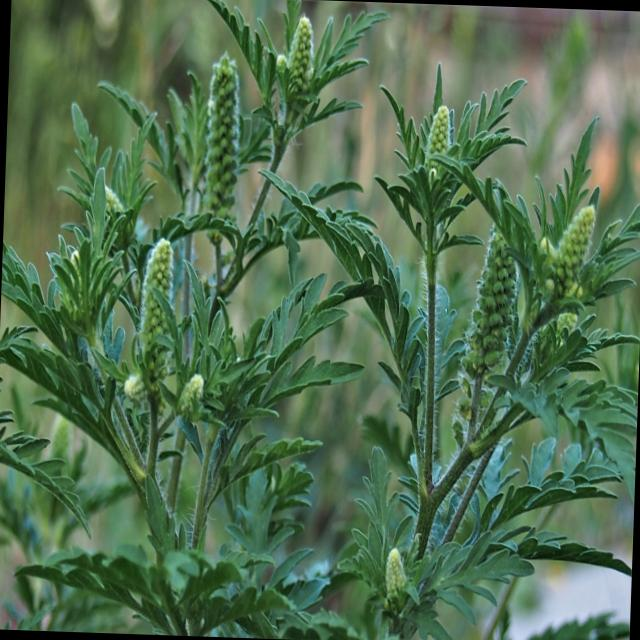ambrosia: (458, 145, 640, 499), (83, 189, 229, 502), (365, 473, 510, 640), (183, 51, 250, 304), (252, 10, 346, 130), (402, 75, 468, 242)
